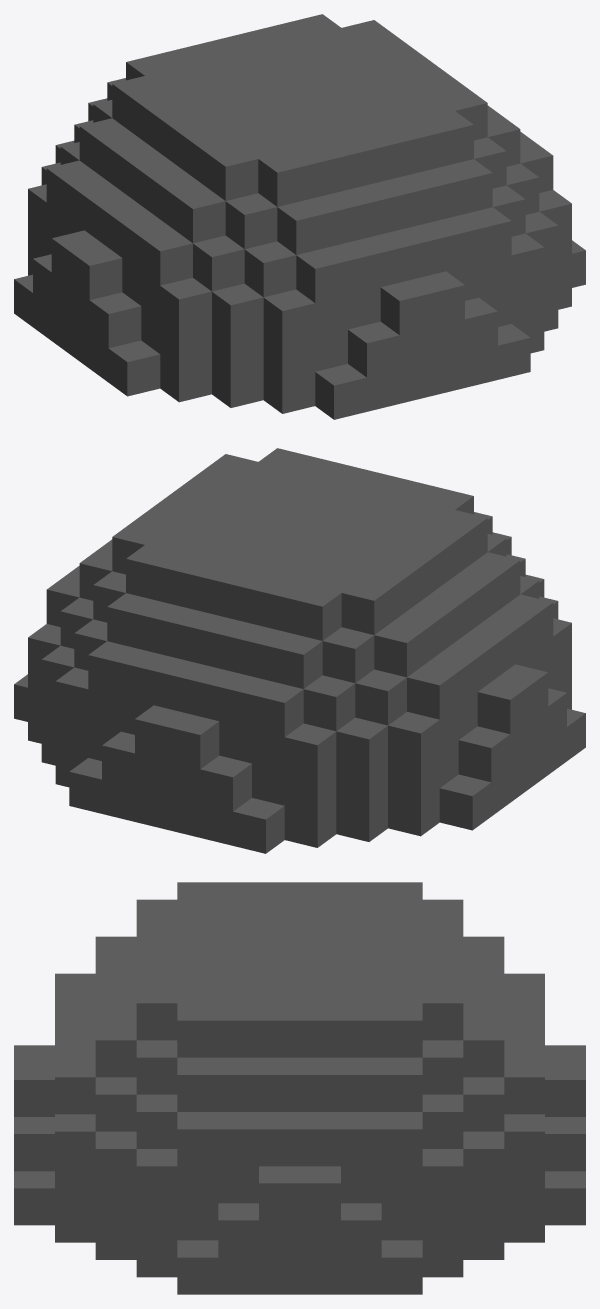
File: kivi2.obj
3 views of the same model, one above another, from view 1: azimuth 30°, elevation 25°; view 2: azimuth 150°, elevation 25°; view 3: azimuth 270°, elevation 25° (orthographic). The views are drawn at different scales.
Bounding box in the file's own units: 14 × 6 × 14.
Materials: 1 (1 with a texture image).
